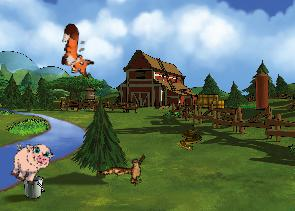eagle: (98, 142, 157, 199)
fox: (57, 23, 98, 78)
pig: (5, 136, 56, 189)
